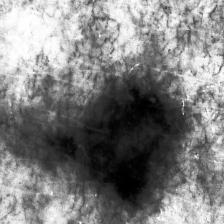Benign Marking or Mole: (52, 72, 190, 205)
